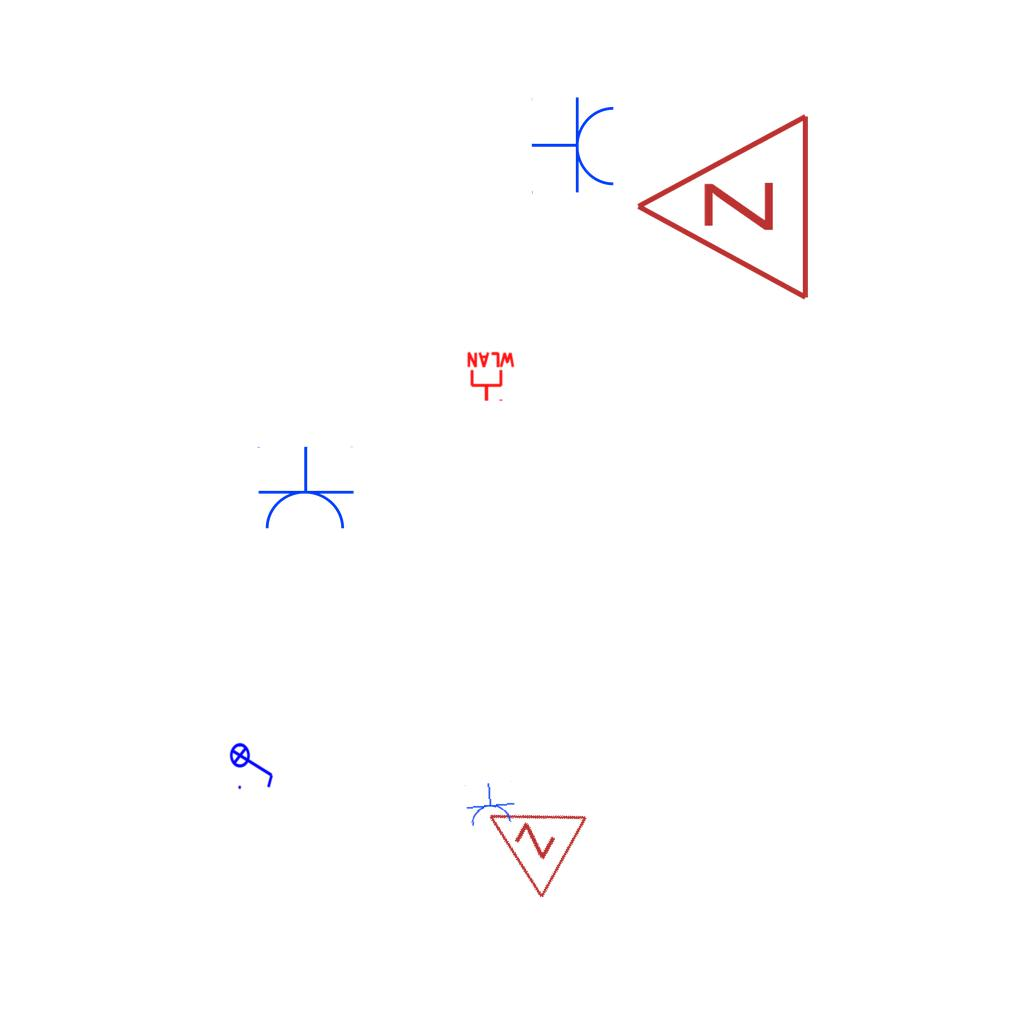Ausschalter_beleuchtet: (229, 736, 277, 792)
Schukosteckdose_einfach: (531, 96, 618, 196), (255, 446, 355, 533), (463, 780, 517, 829)
WLAN: (465, 351, 517, 403)
Zimmersignalleuchte: (623, 111, 823, 307), (459, 770, 595, 906)
